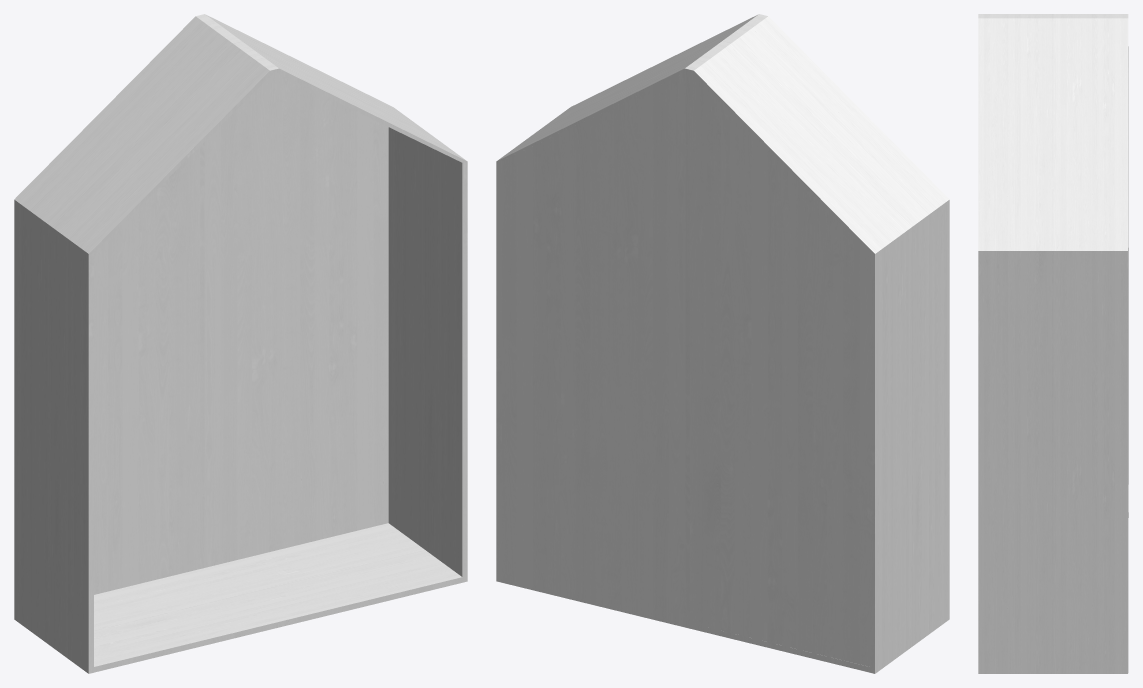
File: House shelf 2.fbx
3 views of the same model, side by side, from view 1: azimuth 30°, elevation 25°; view 2: azimuth 150°, elevation 25°; view 3: azimuth 270°, elevation 25° (orthographic).
Parts seen in each view (by area): view 1: House shelf 2; view 2: House shelf 2; view 3: House shelf 2.
Boxes of the visible parts, x1,y1,x2,y2 form: House shelf 2: (14, 14, 467, 673); House shelf 2: (496, 14, 949, 673); House shelf 2: (978, 14, 1128, 673).
Bounding box in the file's own units: 35.08 × 49.44 × 11.95.
Materials: 1 (1 with a texture image).
